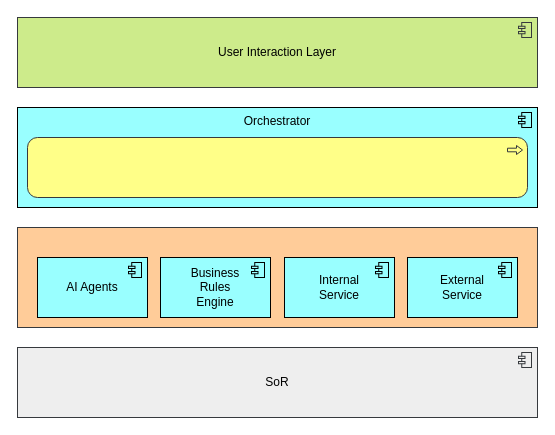
The diagram is 555 pixels wide and 435 high, and some of its shapes have lost their labels. The shapes that lost their labels are listed below. From the top down, each one's box as (x1, y1, x2, y2) in pixels, then its label:
(26, 136, 528, 198): Process Workflow Definition
(16, 226, 538, 328): Service Layer
